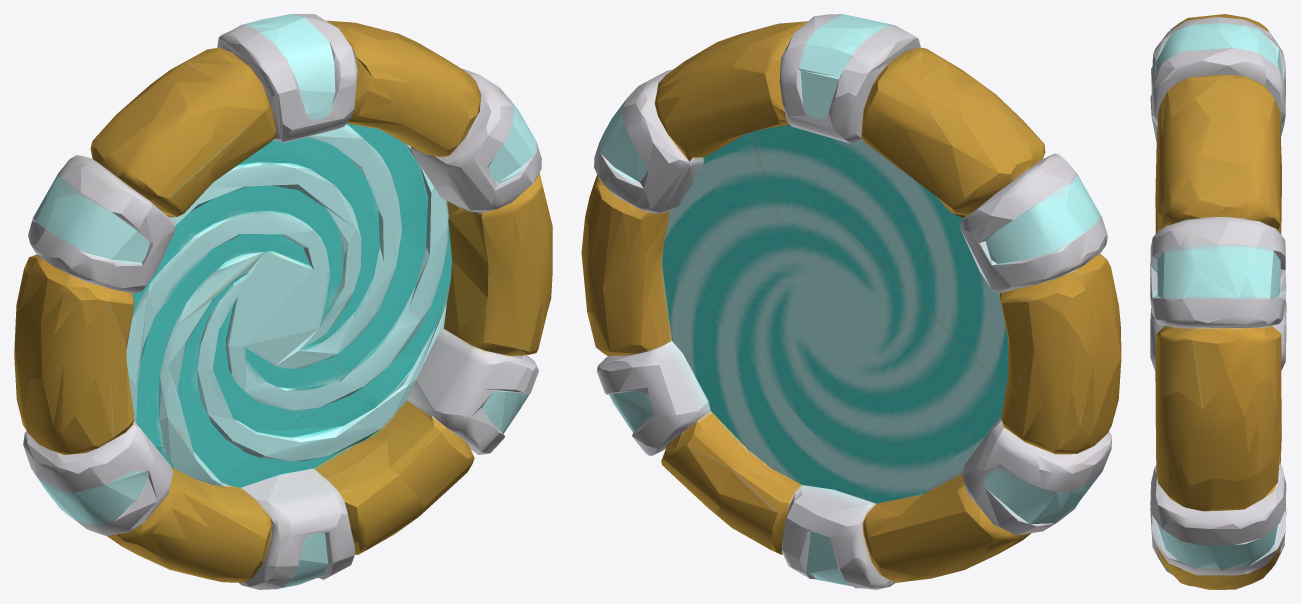
Rendered from finish-portal.glb.
3 views of the same model, side by side, from view 1: azimuth 30°, elevation 25°; view 2: azimuth 150°, elevation 25°; view 3: azimuth 270°, elevation 25° (orthographic).
Size of the model in its own units: 1.87 by 1.9 by 0.4353.
Materials: 1 (1 with a texture image).
